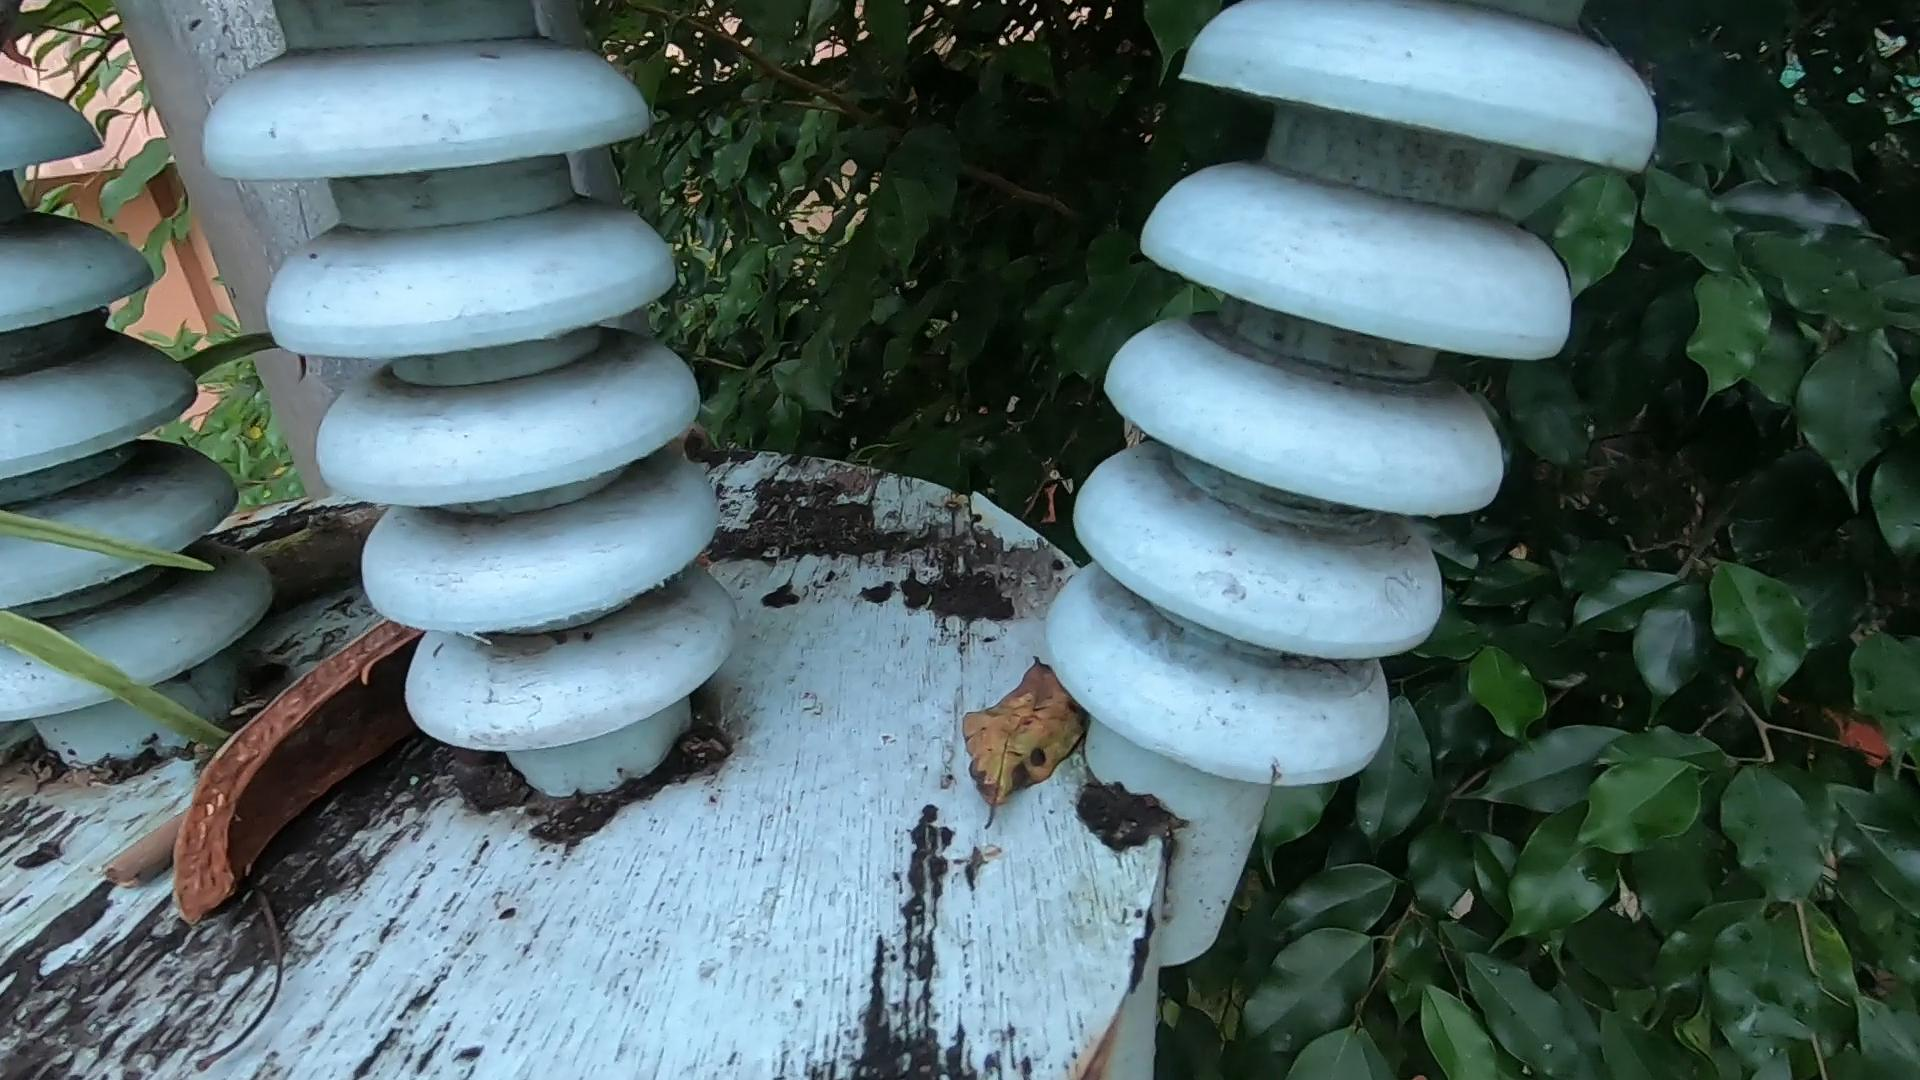leaf: (928, 621, 1160, 851)
mahogany fruit: (216, 622, 464, 996)
tree branch: (53, 740, 360, 949), (203, 442, 493, 630)
